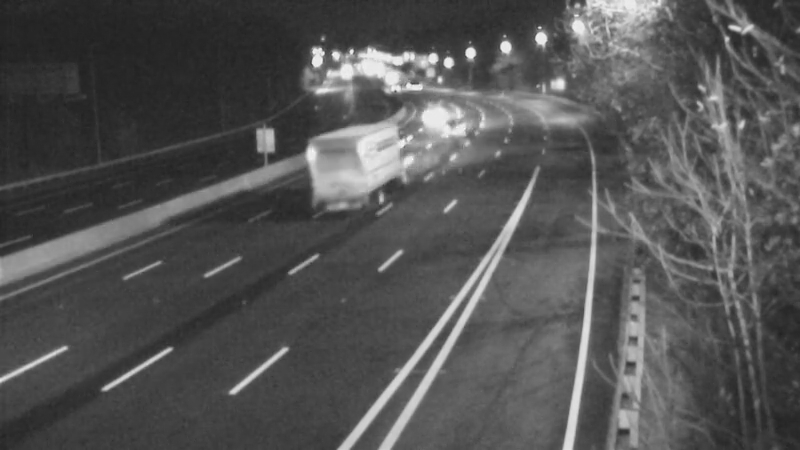vehicle: (305, 123, 385, 203), (387, 57, 437, 107), (371, 62, 421, 112), (404, 90, 454, 140), (432, 102, 482, 152), (380, 111, 430, 161)
